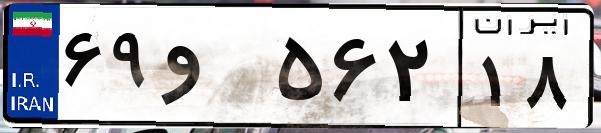1: (475, 38, 525, 113)
2: (385, 28, 445, 110)
5: (270, 28, 330, 110)
6: (330, 28, 385, 110), (57, 26, 110, 100)
8: (525, 38, 570, 115)
9: (110, 28, 158, 98)
و: (158, 20, 270, 120)
